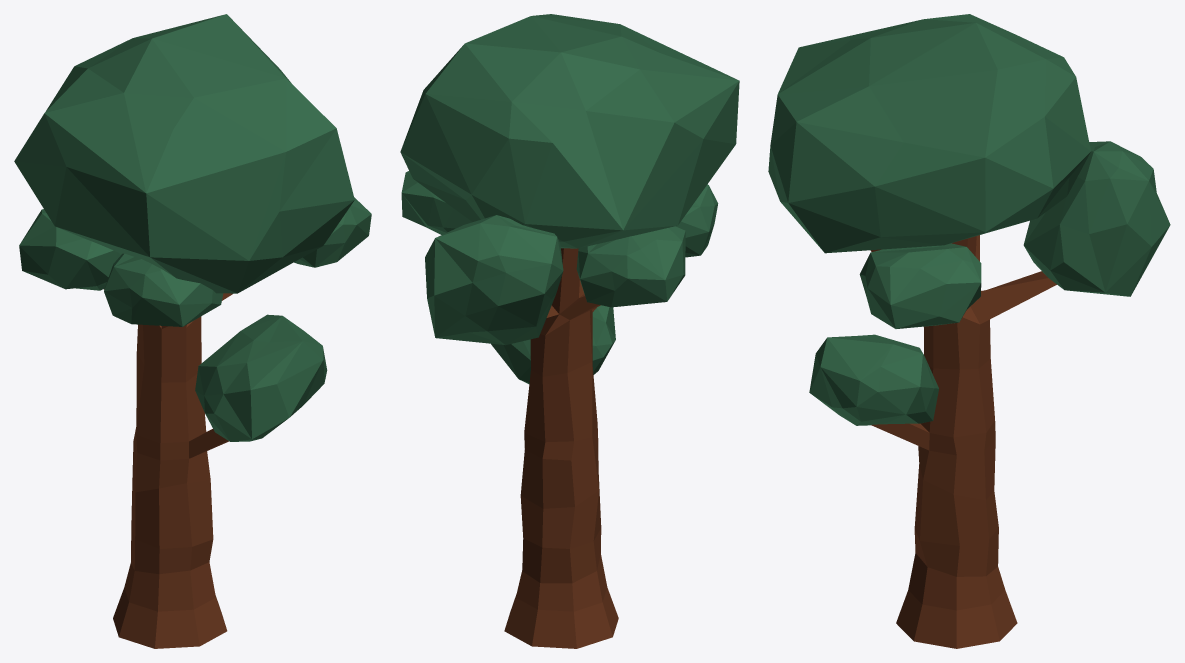
File: beech.fbx
3 views of the same model, side by side, from view 1: azimuth 30°, elevation 25°; view 2: azimuth 150°, elevation 25°; view 3: azimuth 270°, elevation 25° (orthographic). The views are drawn at different scales.
Visible parts, largest first — view 1: Cube.005; view 2: Cube.005; view 3: Cube.005.
Boxes of the visible parts, <box> form: Cube.005: <box>14,14,371,648</box>; Cube.005: <box>400,14,739,648</box>; Cube.005: <box>768,14,1170,648</box>.
Bounding box in the file's own units: 723 × 1353 × 827.
